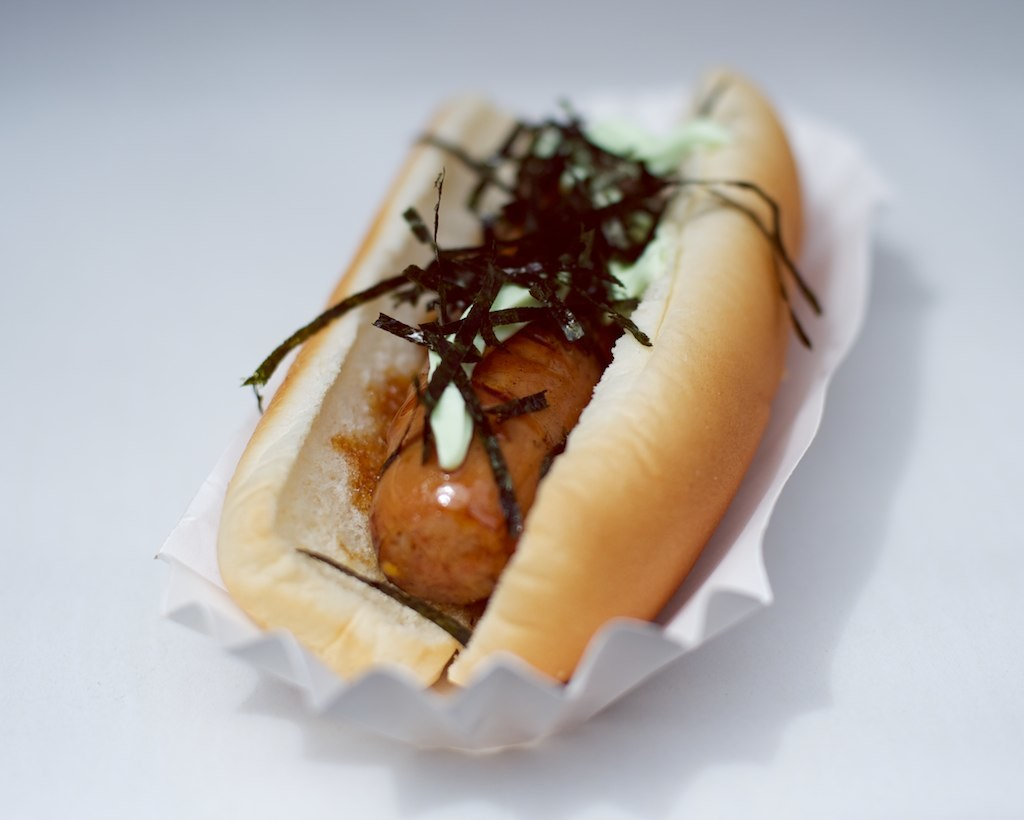hot_dog: (210, 60, 807, 710)
